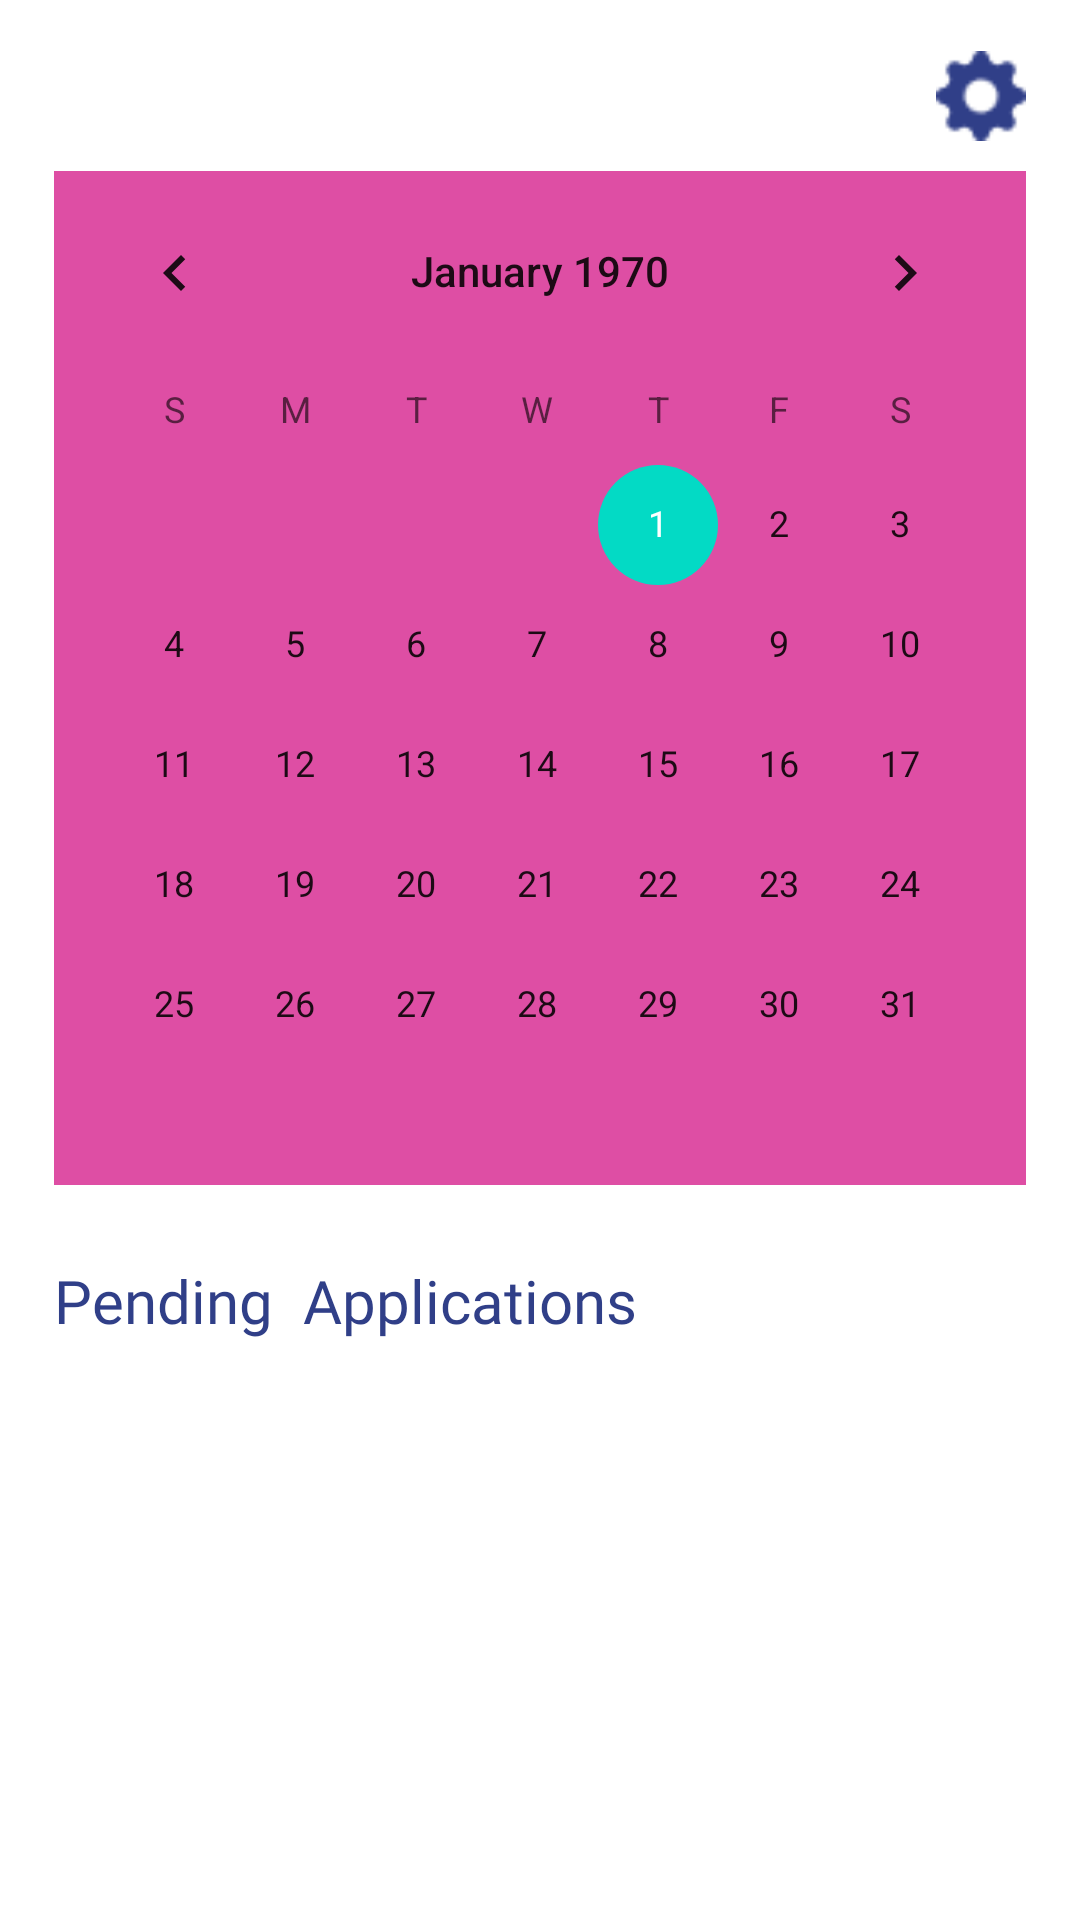

Named icons in this screenshot (1080w x 1920h) and their centers, [x,y]:
settings: [981,96]
